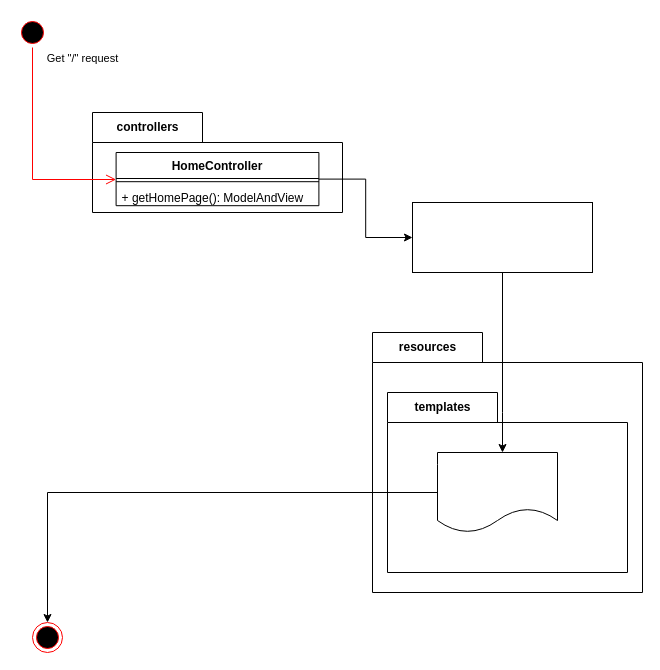
Some shapes in this 660 by 670 pixel diagram are drawn without their labels. Here are the shapes that lost their labels. From the top down, the centre of each, then its label:
At (502,237): "Thymeleaf Preprocessor".
At (497,492): "teste.html".
